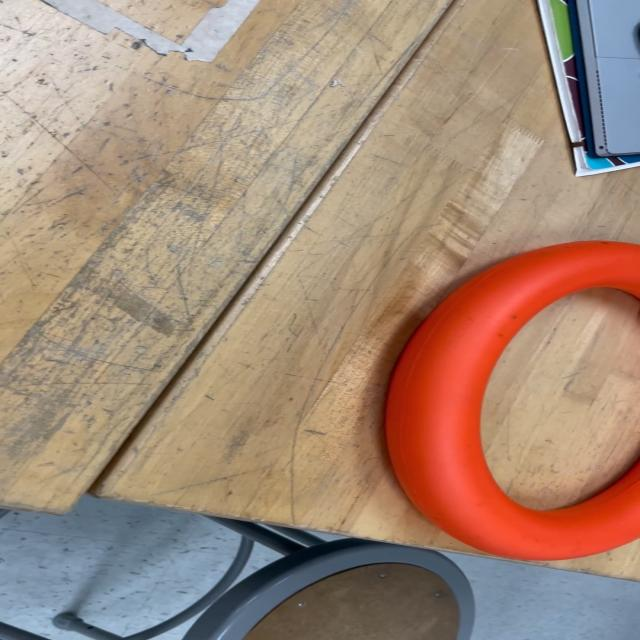note: (386, 244, 640, 560)
